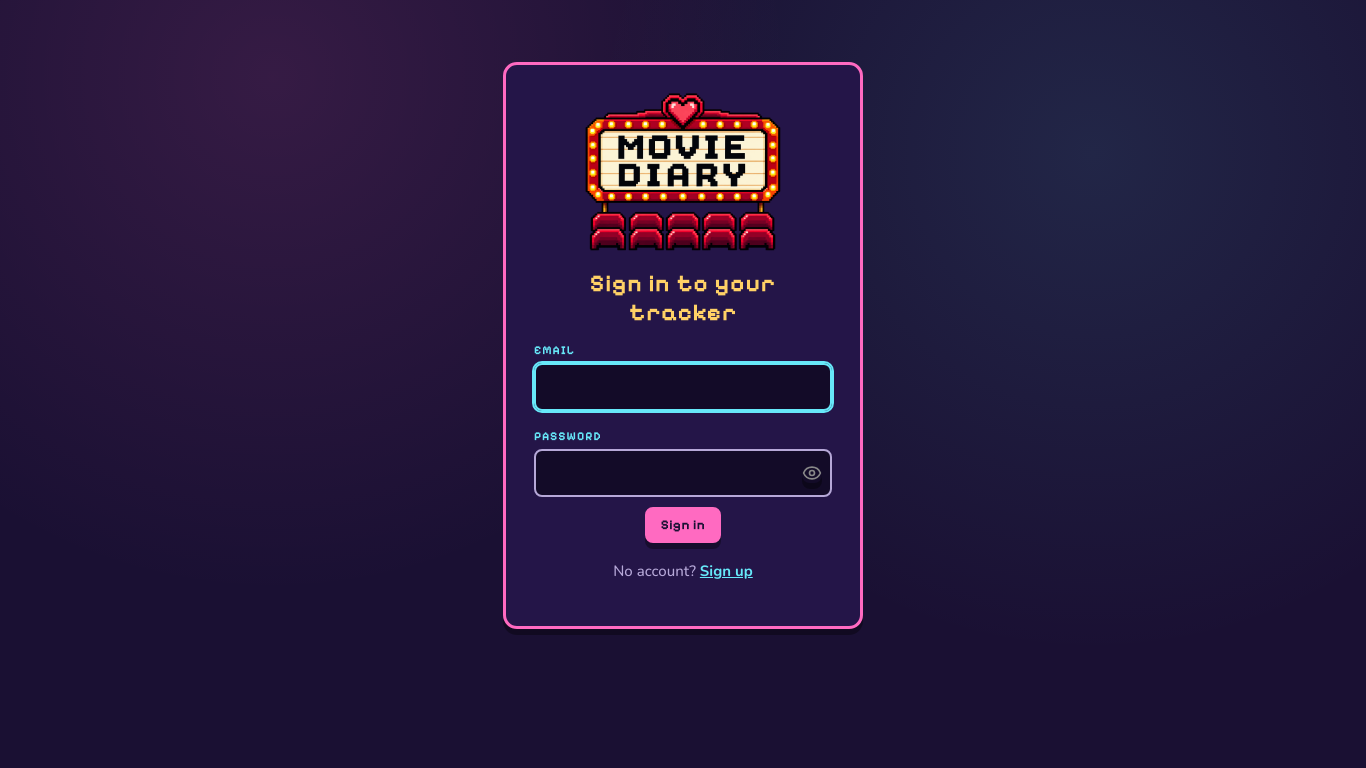
it: LoginPage › shows an error message on failure
The width and height of the screenshot is (1366, 768).
Type "a@b.com" into the field labelled "Email" at coordinates (683, 387), box [534, 363, 832, 411]
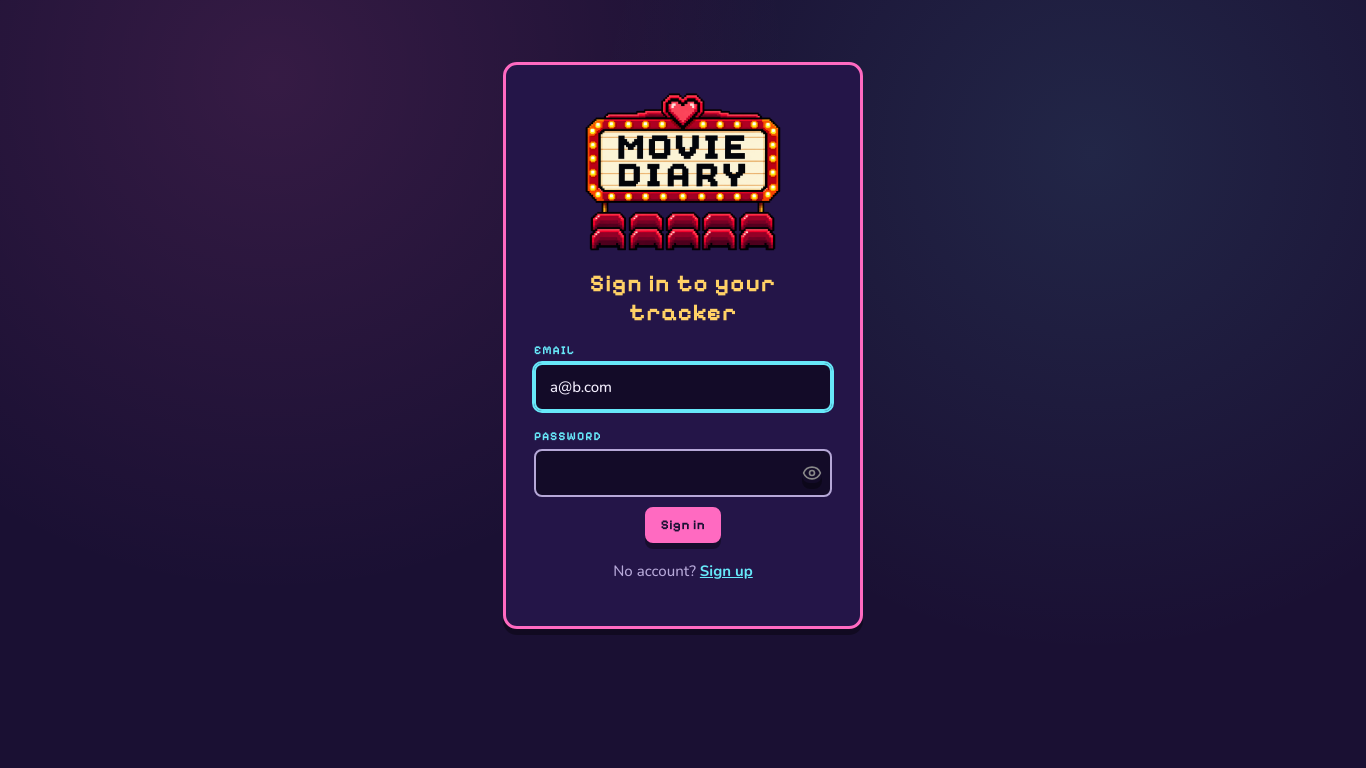
Type "wrong" into the password field labelled "Password" at coordinates (683, 473), box [534, 449, 832, 497]
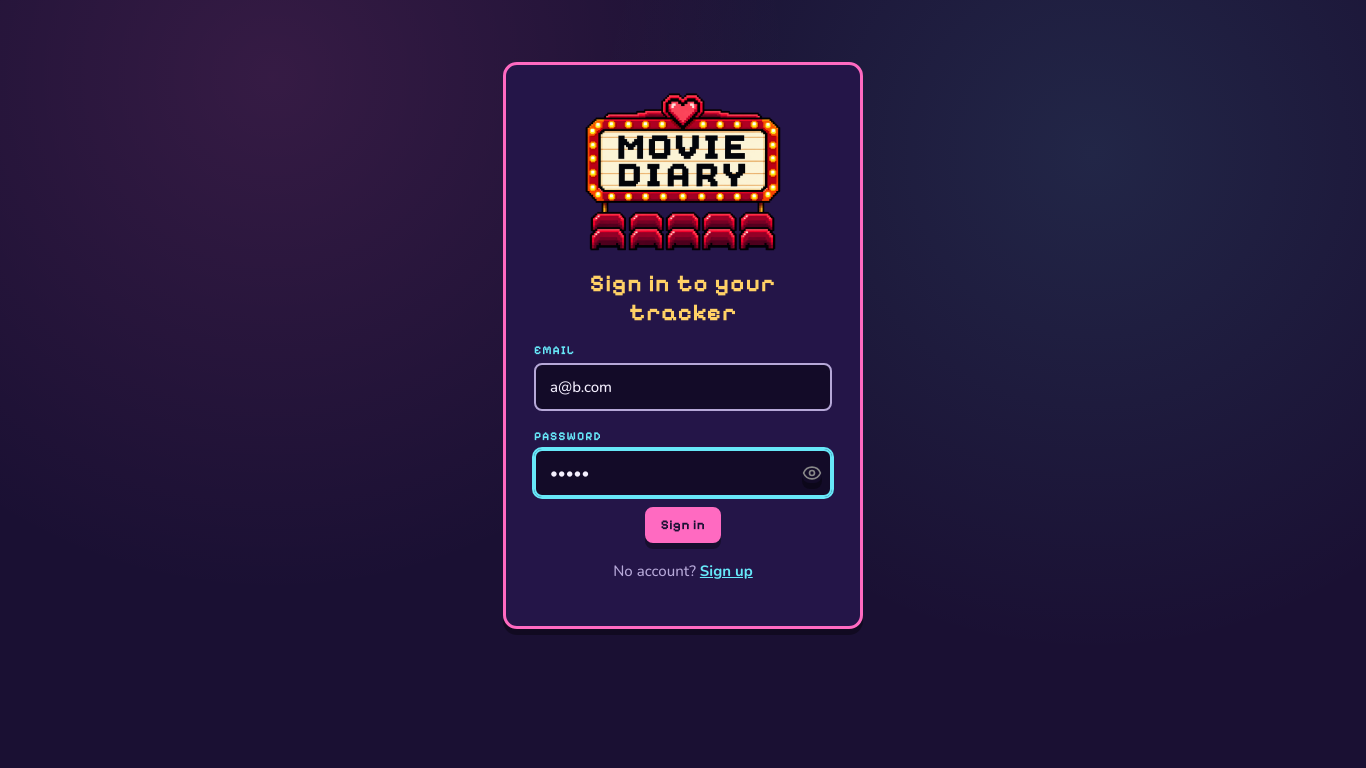
Click the button "Sign in" at coordinates (683, 525), box [645, 507, 721, 543]
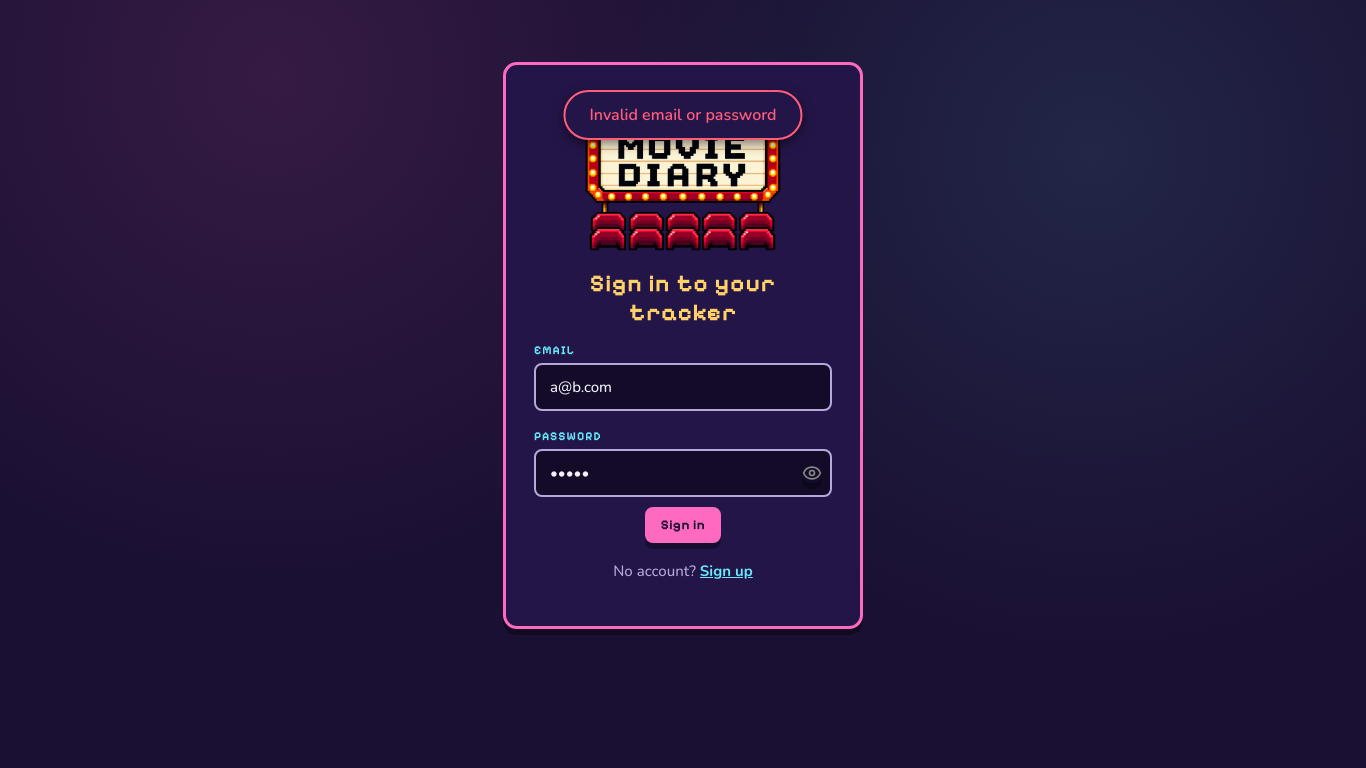
Now the text "Invalid email or password" is shown, box [564, 90, 803, 140]
